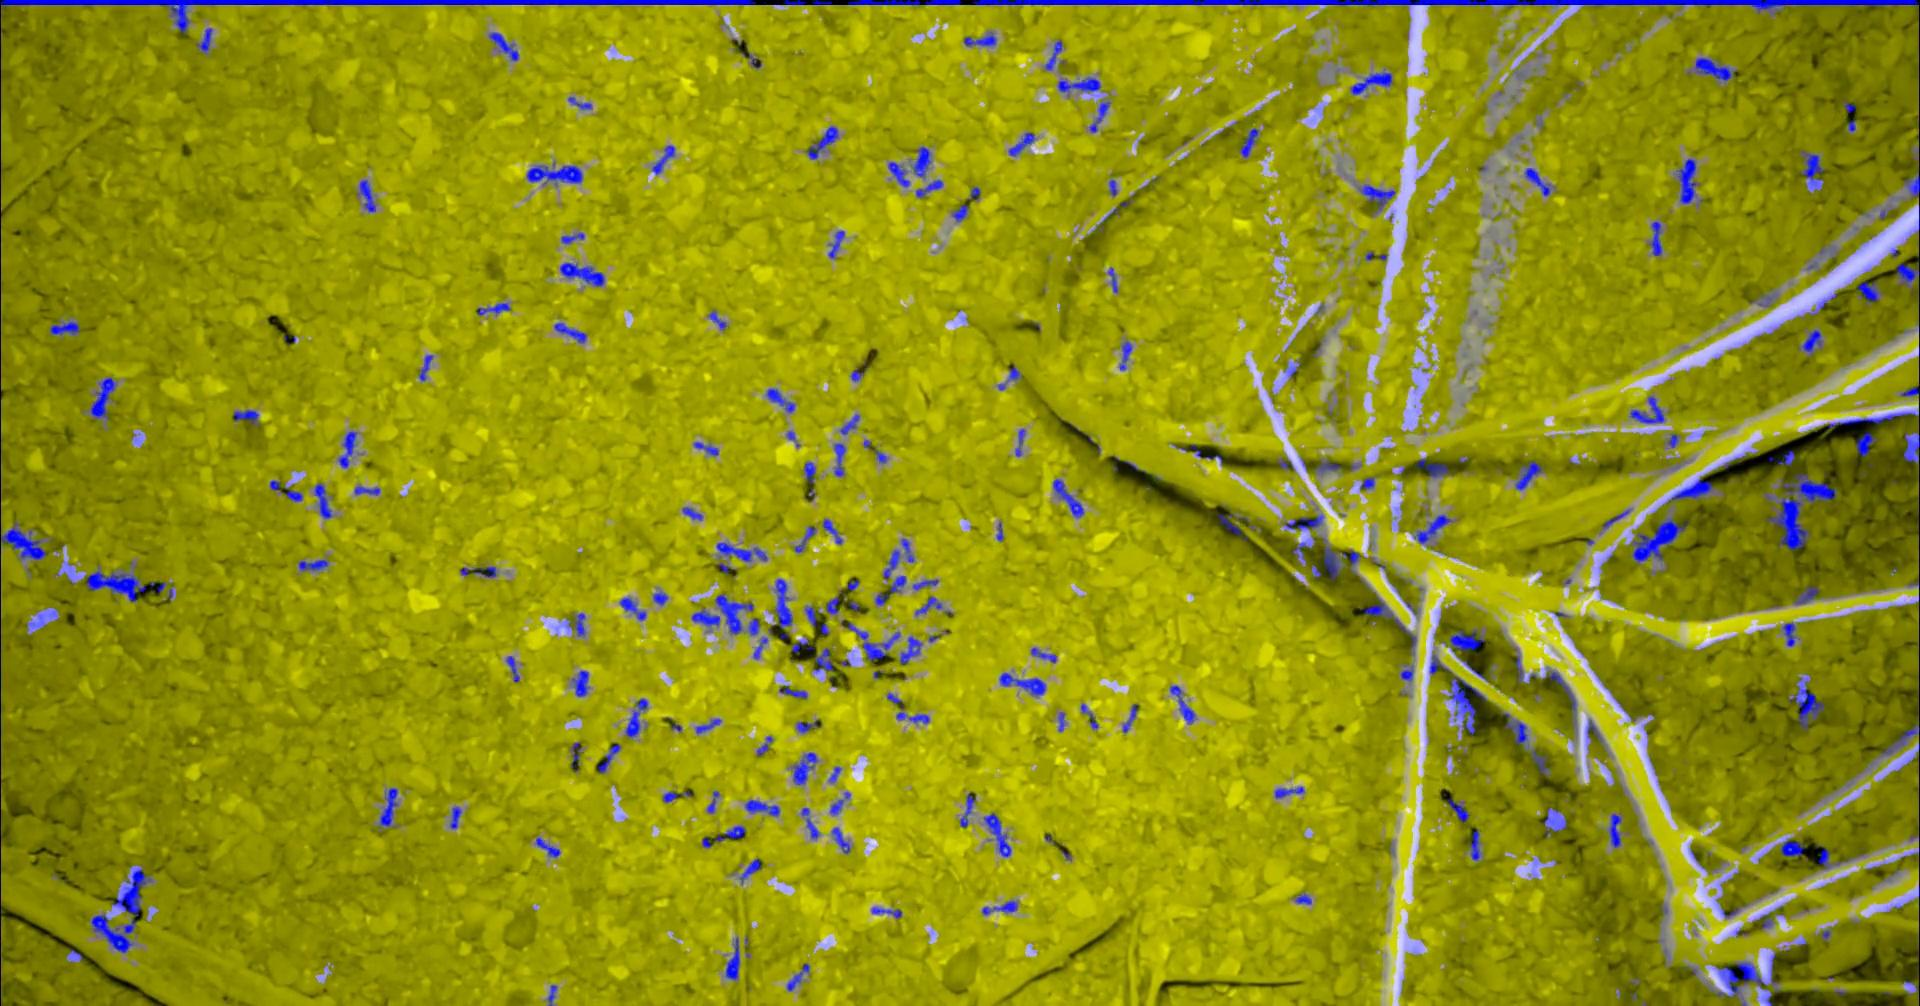ant: (1827, 412, 1919, 481), (1879, 673, 1919, 754), (1359, 594, 1415, 648), (1630, 517, 1688, 561), (841, 619, 899, 661), (1449, 676, 1486, 734), (85, 567, 146, 601), (1716, 962, 1766, 997), (1788, 681, 1823, 729), (0, 523, 46, 559), (714, 594, 753, 634), (1545, 671, 1575, 720), (886, 692, 930, 723), (1666, 475, 1713, 503), (1051, 479, 1083, 517), (983, 812, 1010, 856), (526, 165, 582, 185), (559, 262, 604, 286), (999, 672, 1045, 696), (1413, 514, 1451, 542), (1350, 69, 1390, 94), (90, 377, 116, 418), (1357, 184, 1396, 211), (806, 126, 837, 159), (772, 578, 792, 627), (1695, 57, 1736, 81), (1895, 260, 1919, 301), (716, 542, 766, 561), (702, 826, 745, 847), (1676, 158, 1697, 203), (1170, 685, 1194, 723), (1629, 396, 1663, 423), (1801, 151, 1823, 191), (875, 575, 905, 605), (625, 699, 648, 737), (488, 32, 518, 60), (1502, 713, 1528, 746), (1321, 537, 1340, 579), (1524, 166, 1550, 196), (1515, 460, 1542, 489), (1449, 630, 1484, 652), (792, 752, 817, 784), (596, 743, 620, 774), (378, 788, 397, 826), (764, 387, 794, 412), (1416, 459, 1453, 478), (269, 480, 302, 500), (651, 145, 674, 174), (338, 431, 356, 467), (618, 597, 646, 620), (1543, 807, 1566, 835), (724, 937, 739, 979), (314, 483, 331, 518), (552, 323, 585, 342), (1090, 102, 1110, 132), (1008, 132, 1034, 156), (786, 963, 809, 989), (1190, 445, 1222, 464), (1057, 77, 1100, 91), (794, 525, 815, 553), (899, 636, 921, 664), (1239, 127, 1258, 158), (959, 793, 975, 827), (744, 799, 778, 815), (801, 807, 819, 838), (1284, 514, 1323, 528), (1855, 431, 1877, 456), (912, 146, 930, 177), (1601, 509, 1629, 528), (888, 161, 909, 185), (1857, 279, 1878, 304), (1448, 798, 1469, 822), (1044, 39, 1062, 69), (1801, 329, 1821, 354), (739, 857, 759, 883), (830, 827, 850, 854), (359, 179, 375, 212), (883, 549, 899, 579), (691, 608, 719, 626), (982, 901, 1017, 915), (1217, 513, 1241, 533), (535, 837, 559, 857), (1903, 165, 1919, 197), (1530, 749, 1549, 775), (1608, 813, 1622, 847), (916, 179, 942, 197), (571, 669, 589, 696), (813, 648, 833, 671), (963, 32, 996, 46), (828, 230, 844, 258), (822, 518, 841, 542), (1793, 586, 1818, 603), (916, 596, 941, 614), (1079, 702, 1097, 728), (847, 0, 961, 4), (1782, 622, 1799, 647), (476, 302, 509, 315), (1429, 654, 1449, 674), (50, 321, 79, 335), (1123, 702, 1137, 732), (1030, 647, 1057, 662), (1779, 840, 1803, 856), (1650, 221, 1661, 255), (778, 685, 806, 699), (418, 354, 433, 380), (232, 409, 258, 424), (839, 414, 858, 434), (695, 718, 720, 733), (568, 612, 584, 635), (458, 567, 495, 577), (1119, 340, 1131, 370), (196, 28, 211, 52), (1341, 549, 1359, 569), (505, 655, 519, 681), (1586, 719, 1601, 742), (1274, 786, 1304, 798), (871, 907, 902, 918), (693, 441, 717, 455), (834, 443, 844, 476), (298, 559, 328, 570), (1291, 542, 1313, 558), (1314, 460, 1340, 473), (753, 636, 767, 659), (709, 310, 726, 328), (756, 735, 772, 754), (1469, 829, 1479, 860), (1817, 843, 1830, 868), (791, 638, 813, 652), (570, 742, 580, 771), (662, 791, 691, 801), (951, 203, 968, 221), (1777, 448, 1794, 465), (1755, 911, 1771, 929), (568, 97, 590, 109), (804, 605, 817, 627), (682, 506, 702, 520), (803, 461, 815, 483), (796, 719, 818, 732), (902, 539, 913, 561), (1107, 267, 1117, 292), (912, 579, 937, 589), (1015, 428, 1023, 456), (706, 790, 717, 812), (560, 232, 584, 243), (354, 485, 378, 495), (825, 596, 838, 614), (450, 807, 460, 828), (651, 591, 667, 605), (1515, 655, 1523, 683), (1006, 365, 1018, 381), (1900, 386, 1919, 396), (830, 799, 843, 814), (748, 617, 759, 634), (547, 984, 556, 1005), (1399, 667, 1413, 680), (1295, 893, 1310, 904), (1360, 478, 1374, 489), (1667, 433, 1677, 447), (783, 0, 806, 4), (811, 0, 832, 4)
